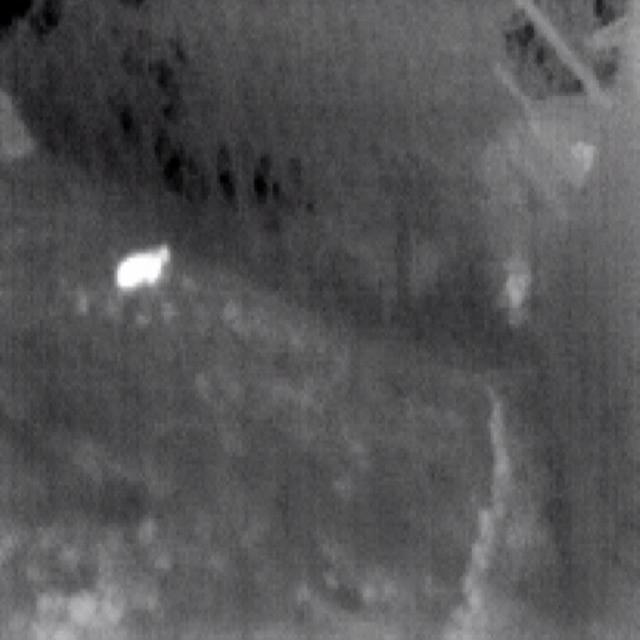cheetah: (116, 245, 170, 287)
